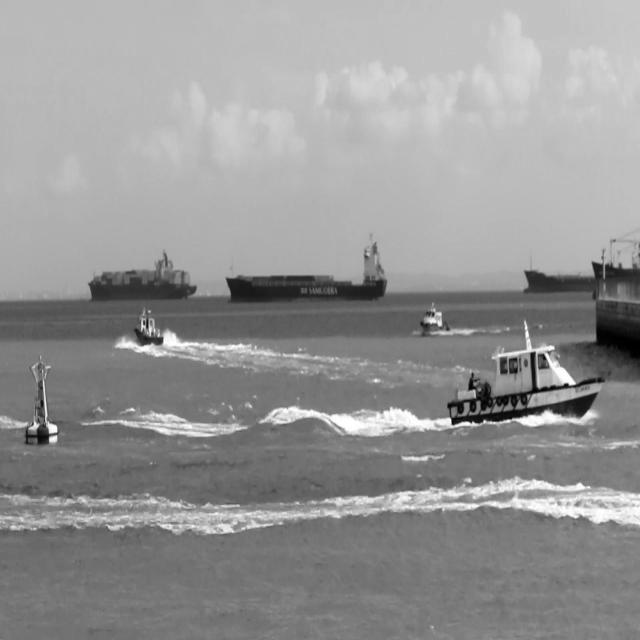buoy: (24, 358, 61, 446)
ship: (446, 318, 606, 427), (225, 230, 388, 304), (89, 246, 198, 302), (523, 254, 595, 294), (134, 305, 164, 348), (418, 300, 452, 334)
